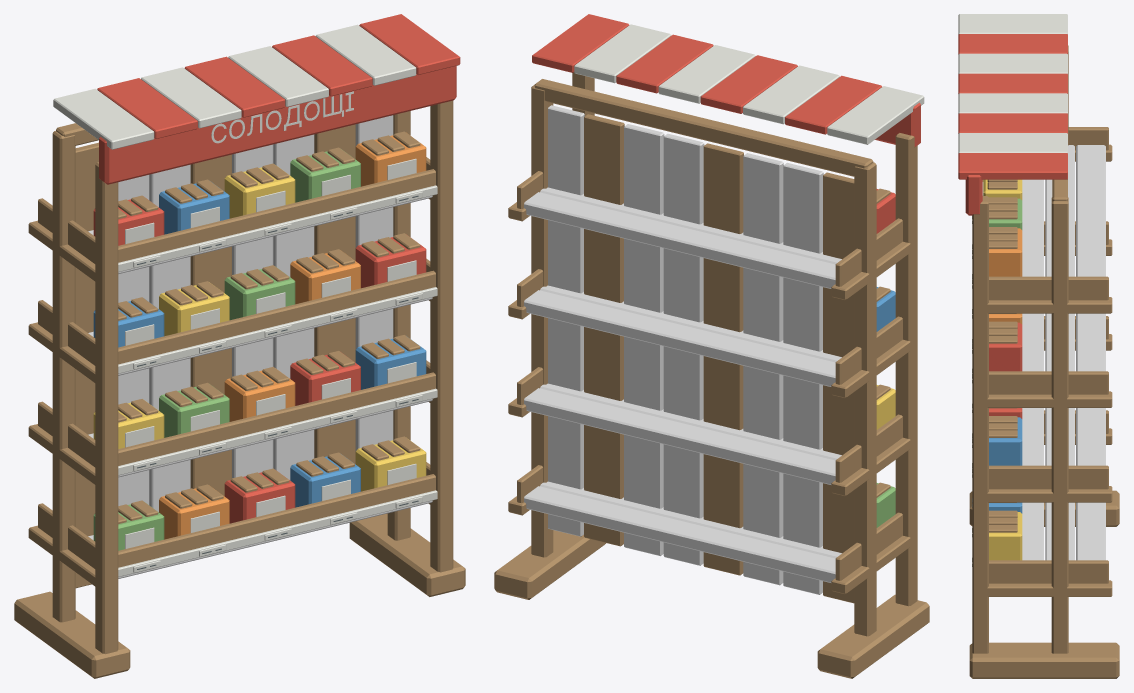
Rendered from Shelf_Sweets.fbx.
3 views of the same model, side by side, from view 1: azimuth 30°, elevation 25°; view 2: azimuth 150°, elevation 25°; view 3: azimuth 270°, elevation 25° (orthographic). The views are drawn at different scales.
Parts seen in each view (by area): view 1: Shelf_Sweets__LPCXFER, Shelf_Sweets__Back_sweets__LPCXFER, Shelf_Sweets__Striped_Canopy__LPCXFER, Shelf_Sweets__Header_sweets__LPCXFER, Shelf_Sweets__Shelf_3__LPCXFER, Shelf_Sweets__Shelf_2__LPCXFER, Shelf_Sweets__Shelf_1__LPCXFER, Shelf_Sweets__Shelf_4__LPCXFER, Shelf_Sweets_Item_1_F_3_chocolate__LPCXFER, Shelf_Sweets_Item_4_F_3_chocolate__LPCXFER, Shelf_Sweets_Item_2_F_3_chocolate__LPCXFER, Shelf_Sweets_Item_3_F_3_chocolate__LPCXFER (+17 smaller); view 2: Shelf_Sweets__Back_sweets__LPCXFER, Shelf_Sweets__LPCXFER, Shelf_Sweets__Striped_Canopy__LPCXFER, Shelf_Sweets__Shelf_4__LPCXFER, Shelf_Sweets__Shelf_1__LPCXFER, Shelf_Sweets__Shelf_3__LPCXFER, Shelf_Sweets__Shelf_2__LPCXFER, Shelf_Sweets__Header_sweets__LPCXFER, Shelf_Sweets_Item_4_F_1_chocolate__LPCXFER, Shelf_Sweets_Item_1_F_1_chocolate__LPCXFER, Shelf_Sweets_Item_3_F_1_chocolate__LPCXFER, Shelf_Sweets_Item_2_F_1_chocolate__LPCXFER; view 3: Shelf_Sweets__LPCXFER, Shelf_Sweets__Striped_Canopy__LPCXFER, Shelf_Sweets__Shelf_4__LPCXFER, Shelf_Sweets__Shelf_2__LPCXFER, Shelf_Sweets__Shelf_1__LPCXFER, Shelf_Sweets__Shelf_3__LPCXFER, Shelf_Sweets_Item_3_F_5_chocolate__LPCXFER, Shelf_Sweets_Item_1_F_5_chocolate__LPCXFER, Shelf_Sweets_Item_2_F_5_chocolate__LPCXFER, Shelf_Sweets_Item_4_F_5_chocolate__LPCXFER, Shelf_Sweets_Item_4_F_4_chocolate__LPCXFER, Shelf_Sweets_Item_4_F_3_chocolate__LPCXFER (+4 smaller).
Part boxes in pixels (x1,y1,x2,y2): Shelf_Sweets__LPCXFER: (14,100,465,678); Shelf_Sweets__Back_sweets__LPCXFER: (75,115,393,588); Shelf_Sweets__Striped_Canopy__LPCXFER: (53,14,460,149); Shelf_Sweets__Header_sweets__LPCXFER: (99,66,456,184); Shelf_Sweets__Shelf_3__LPCXFER: (38,258,437,375); Shelf_Sweets__Shelf_2__LPCXFER: (38,360,437,477); Shelf_Sweets__Shelf_1__LPCXFER: (38,462,437,578); Shelf_Sweets__Shelf_4__LPCXFER: (38,157,437,273); Shelf_Sweets_Item_1_F_3_chocolate__LPCXFER: (224,468,295,523); Shelf_Sweets_Item_4_F_3_chocolate__LPCXFER: (224,163,295,218); Shelf_Sweets_Item_2_F_3_chocolate__LPCXFER: (224,366,295,421); Shelf_Sweets_Item_3_F_3_chocolate__LPCXFER: (224,265,295,320); Shelf_Sweets__Back_sweets__LPCXFER: (548,105,854,603); Shelf_Sweets__LPCXFER: (494,72,929,678); Shelf_Sweets__Striped_Canopy__LPCXFER: (532,14,924,144); Shelf_Sweets__Shelf_4__LPCXFER: (517,171,902,288); Shelf_Sweets__Shelf_1__LPCXFER: (517,465,902,582); Shelf_Sweets__Shelf_3__LPCXFER: (517,269,902,386); Shelf_Sweets__Shelf_2__LPCXFER: (517,367,902,484); Shelf_Sweets__Header_sweets__LPCXFER: (875,102,920,146); Shelf_Sweets_Item_4_F_1_chocolate__LPCXFER: (876,188,895,233); Shelf_Sweets_Item_1_F_1_chocolate__LPCXFER: (876,482,895,527); Shelf_Sweets_Item_3_F_1_chocolate__LPCXFER: (876,286,895,331); Shelf_Sweets_Item_2_F_1_chocolate__LPCXFER: (876,384,895,429); Shelf_Sweets__LPCXFER: (969,45,1119,678); Shelf_Sweets__Striped_Canopy__LPCXFER: (958,14,1067,179); Shelf_Sweets__Shelf_4__LPCXFER: (972,127,1108,300); Shelf_Sweets__Shelf_2__LPCXFER: (972,316,1108,489); Shelf_Sweets__Shelf_1__LPCXFER: (972,410,1108,583); Shelf_Sweets__Shelf_3__LPCXFER: (972,221,1108,394); Shelf_Sweets_Item_3_F_5_chocolate__LPCXFER: (989,321,1022,371); Shelf_Sweets_Item_1_F_5_chocolate__LPCXFER: (989,510,1022,560); Shelf_Sweets_Item_2_F_5_chocolate__LPCXFER: (989,416,1022,465); Shelf_Sweets_Item_4_F_5_chocolate__LPCXFER: (989,227,1022,276); Shelf_Sweets_Item_4_F_4_chocolate__LPCXFER: (989,197,1022,229); Shelf_Sweets_Item_4_F_3_chocolate__LPCXFER: (982,179,1022,199).
Size of the model in its own units: 154 by 213 by 61.75.
